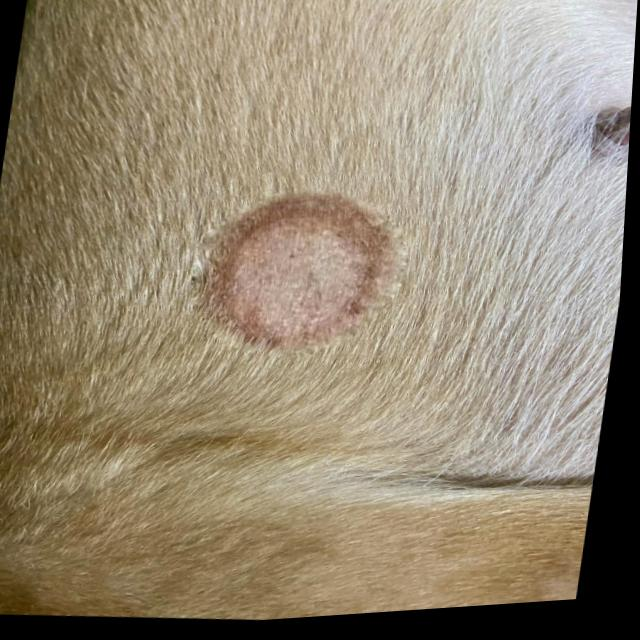ringworm: (185, 200, 408, 359)
